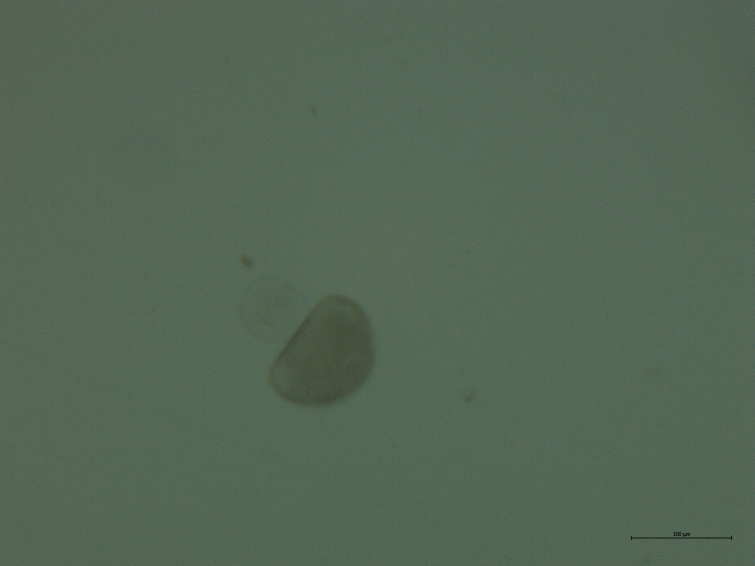oyster: (257, 288, 386, 411)
